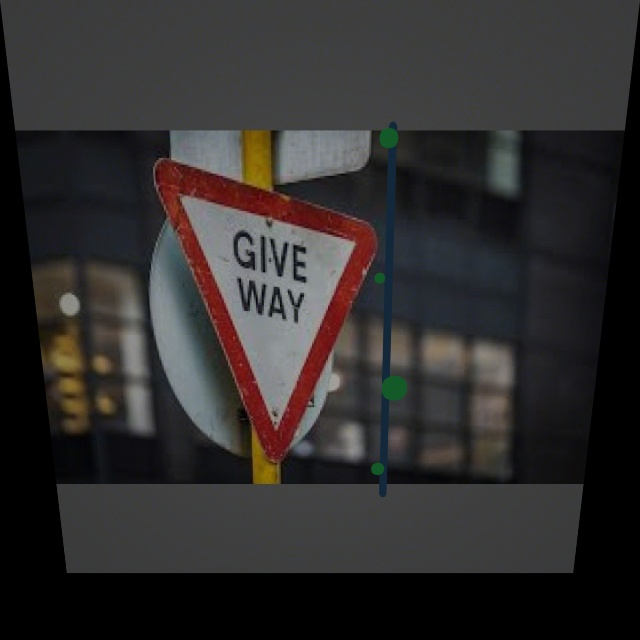Give_Way: (160, 161, 378, 463)
